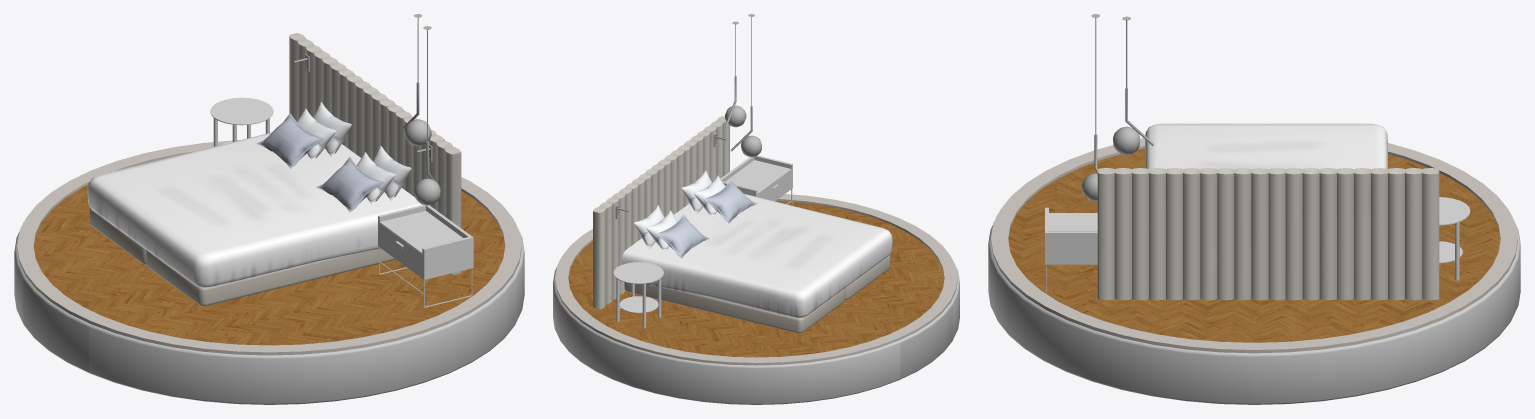
File: AnantaraAmsterdam_MiniModel.fbx
3 views of the same model, side by side, from view 1: azimuth 30°, elevation 25°; view 2: azimuth 150°, elevation 25°; view 3: azimuth 270°, elevation 25° (orthographic). The views are drawn at different scales.
Parts seen in each view (by area): view 1: BASE, Bed, WhiteBehindBed, Table06, Table04, BdR_Lamp06, BdR_Lamp06_2; view 2: BASE, Bed, WhiteBehindBed, Table06, Table04, BdR_Lamp06_2, BdR_Lamp06; view 3: BASE, WhiteBehindBed, Bed, Table06, Table04, BdR_Lamp06, BdR_Lamp06_2.
Boxes of the visible parts, bbox=[...] form: BASE: bbox=[14, 140, 524, 404]; Bed: bbox=[87, 102, 422, 306]; WhiteBehindBed: bbox=[289, 33, 461, 275]; Table06: bbox=[378, 205, 473, 307]; Table04: bbox=[210, 97, 273, 146]; BdR_Lamp06: bbox=[403, 14, 431, 146]; BdR_Lamp06_2: bbox=[414, 26, 440, 205]; BASE: bbox=[553, 194, 959, 404]; Bed: bbox=[622, 170, 892, 333]; WhiteBehindBed: bbox=[593, 116, 729, 309]; Table06: bbox=[720, 155, 792, 205]; Table04: bbox=[613, 262, 663, 328]; BdR_Lamp06_2: bbox=[730, 14, 761, 157]; BdR_Lamp06: bbox=[725, 21, 746, 127]; BASE: bbox=[988, 138, 1520, 404]; WhiteBehindBed: bbox=[1097, 168, 1439, 300]; Bed: bbox=[1145, 123, 1387, 169]; Table06: bbox=[1045, 207, 1097, 293]; Table04: bbox=[1439, 197, 1470, 280]; BdR_Lamp06: bbox=[1113, 16, 1154, 154]; BdR_Lamp06_2: bbox=[1081, 14, 1099, 201].
Size of the model in its own units: 7.24 by 4.79 by 7.24.
